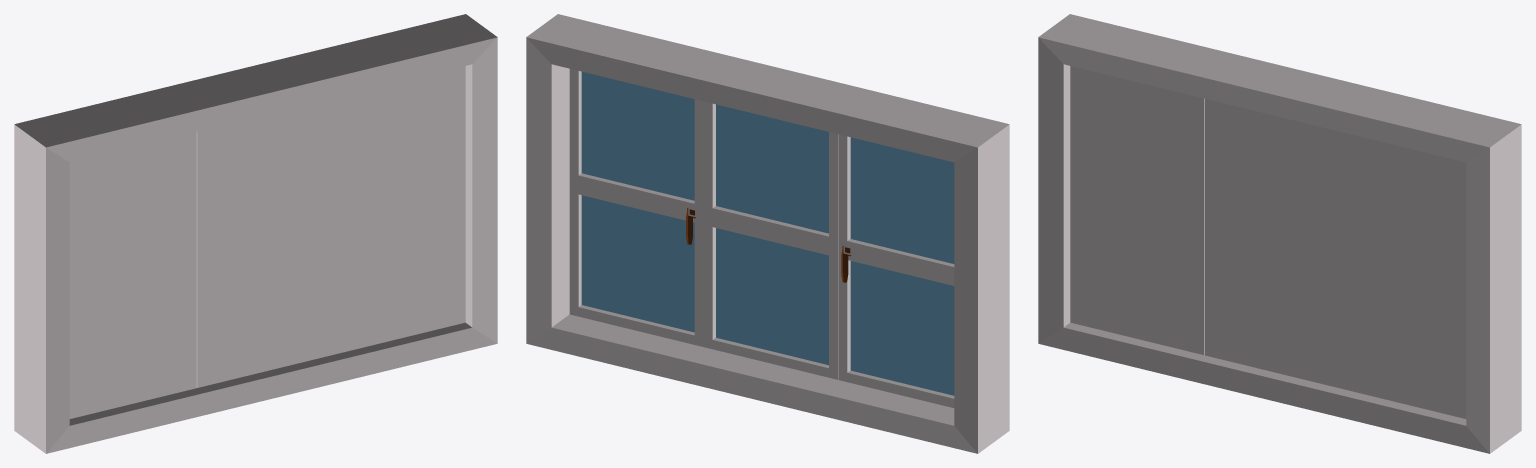
File: Window 3.fbx
3 renders of one model, left to right at view 1: azimuth 30°, elevation 25°; view 2: azimuth 150°, elevation 25°; view 3: azimuth 330°, elevation 25°, orthographic.
Visible parts, largest first — view 1: Node 0, Node 1, Node 3, Node 2; view 2: Node 0, Node 1, Node 3, Node 2; view 3: Node 0, Node 2, Node 1, Node 3.
Boxes of the visible parts, x1,y1,x2,y2 form: Node 0: (14,14,497,453); Node 1: (196,99,331,387); Node 3: (331,66,465,355); Node 2: (69,131,196,418); Node 0: (526,14,1009,453); Node 1: (703,101,838,379); Node 3: (569,69,703,346); Node 2: (838,134,954,407); Node 0: (1038,14,1521,453); Node 2: (1070,66,1204,354); Node 1: (1204,99,1338,387); Node 3: (1338,131,1466,418).
Bounding box in the file's own units: 0.3207 × 1.7 × 2.63.
